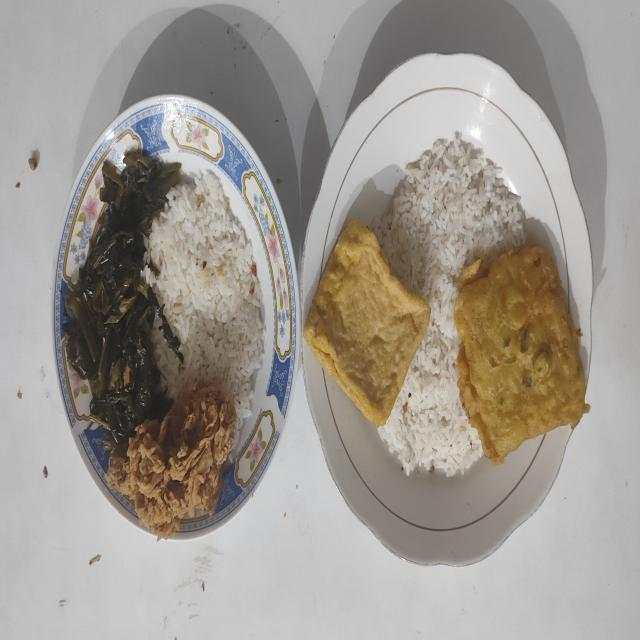nasi_putih: (369, 132, 526, 476), (145, 170, 265, 430)
tahu_goreng: (304, 220, 430, 426)
tumis_kangkung: (63, 148, 184, 458)
